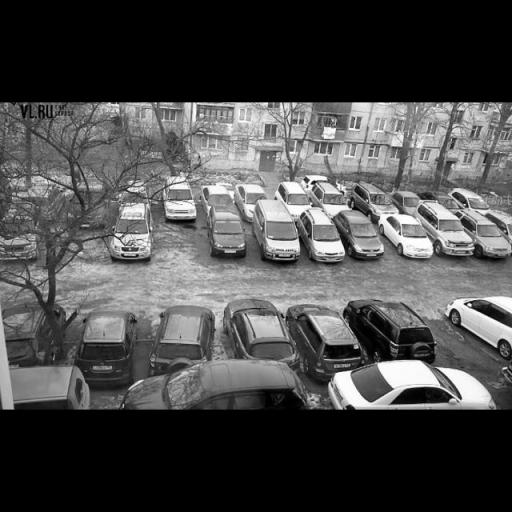busy: (148, 363, 327, 410), (334, 362, 496, 408), (64, 308, 144, 398), (294, 305, 368, 380), (445, 296, 512, 371), (360, 302, 440, 364), (144, 309, 220, 371), (4, 286, 54, 378), (227, 302, 293, 364), (249, 192, 303, 262), (9, 367, 87, 407), (203, 194, 250, 259), (0, 197, 48, 245), (65, 183, 111, 233), (108, 218, 156, 265), (338, 211, 385, 259), (304, 211, 348, 261), (385, 215, 434, 257), (468, 214, 512, 260), (157, 183, 203, 225), (2, 228, 50, 260)
free: (412, 306, 472, 355), (158, 232, 204, 259)
